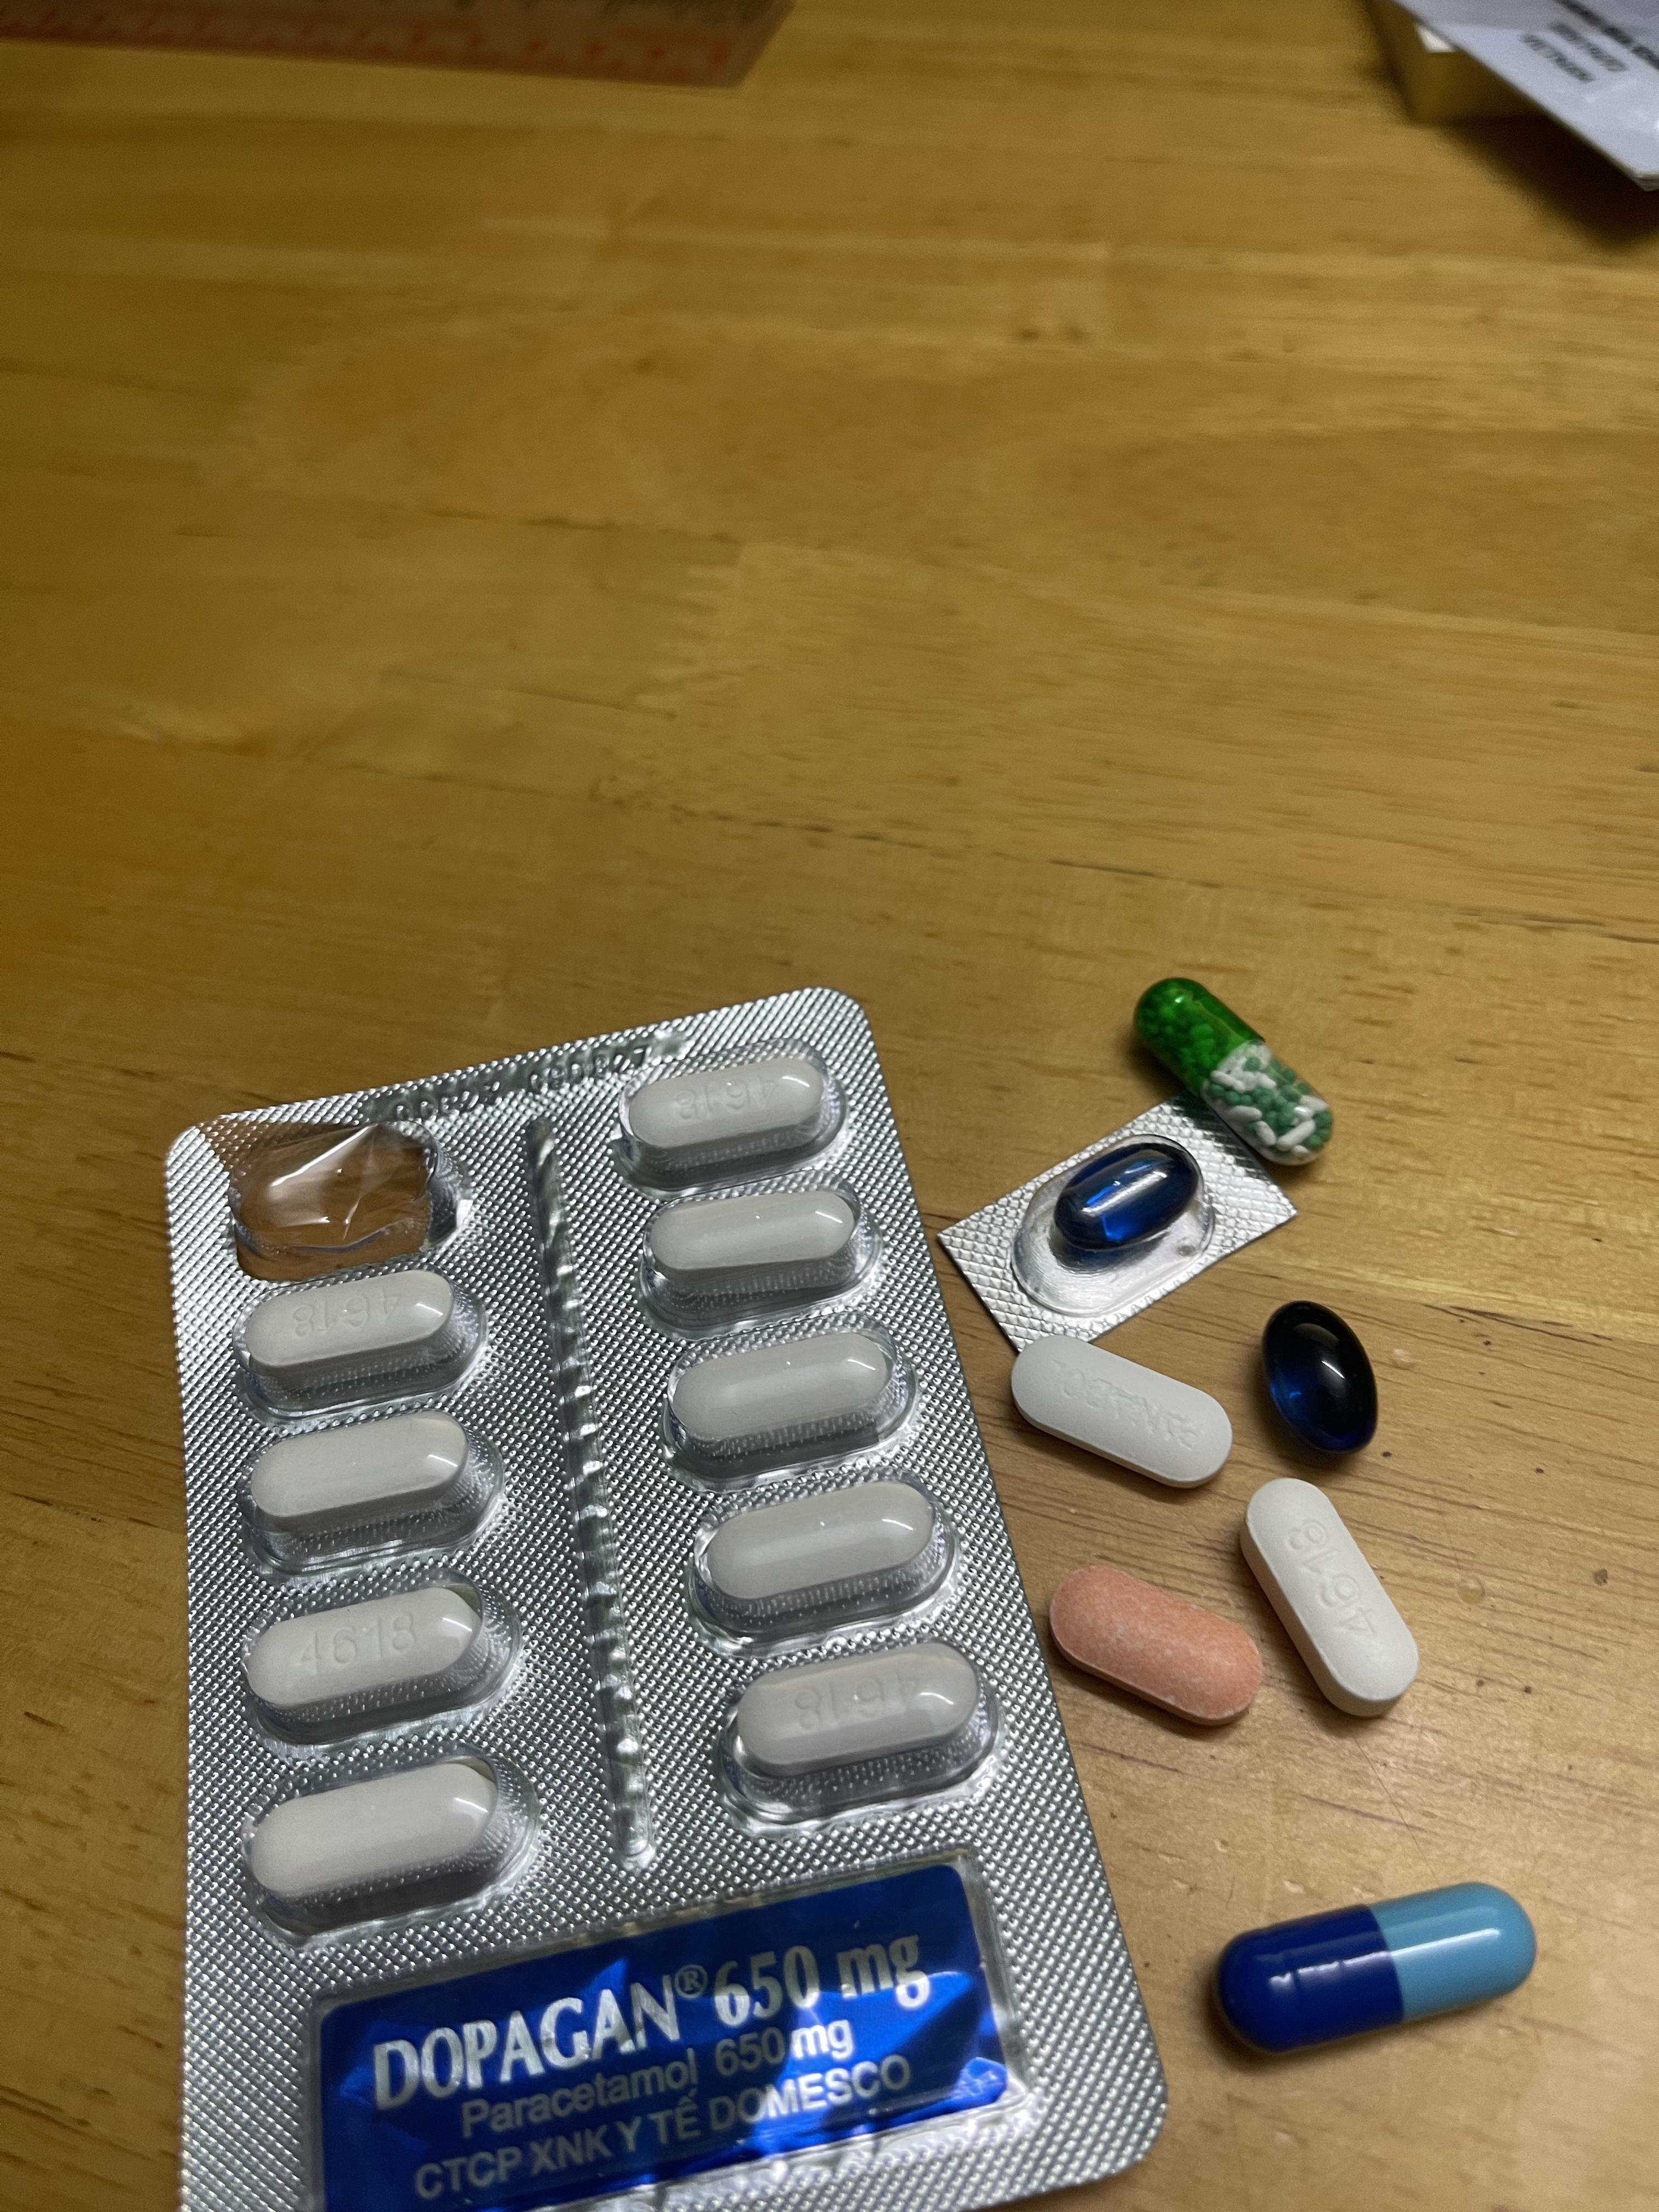Lincomyxin_500mg: (1262, 1299, 1380, 1454), (1053, 1144, 1194, 1258)
Loratadine_10mg: (1046, 1566, 1263, 1724)
Paracetamol_350mg: (1014, 1331, 1223, 1493)
Paracetamol_500mg: (240, 1756, 519, 1916), (721, 1641, 986, 1808), (237, 1578, 509, 1730), (1243, 1486, 1419, 1709), (692, 1474, 943, 1625), (235, 1409, 490, 1554), (664, 1327, 906, 1467), (234, 1268, 481, 1393), (640, 1181, 866, 1310), (617, 1050, 836, 1176)
Paracetamol_650mg: (1136, 977, 1330, 1163)
pill: (1225, 1897, 1528, 2047)
